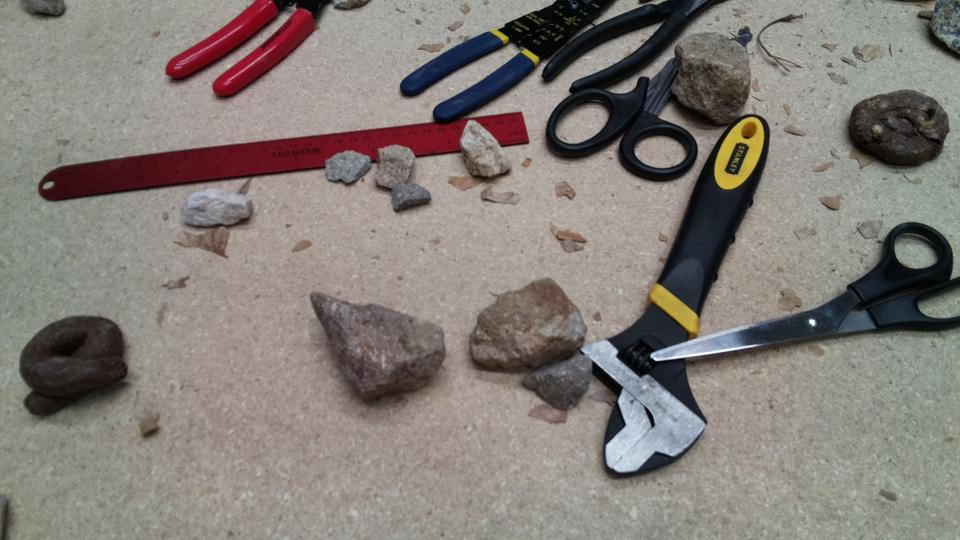poop: (11, 313, 130, 417), (845, 87, 949, 167)
